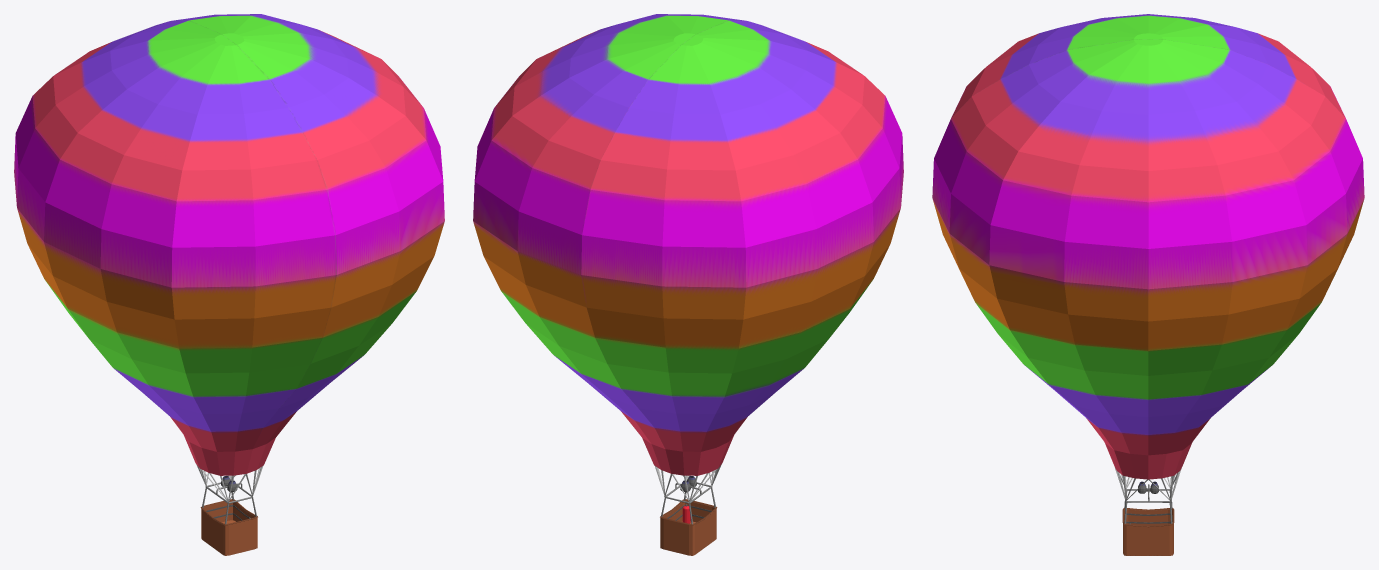
The model's file is HotAirBalloonLowPoly (1).fbx.
3 renders of one model, left to right at view 1: azimuth 30°, elevation 25°; view 2: azimuth 150°, elevation 25°; view 3: azimuth 270°, elevation 25°, orthographic.
Parts seen in each view (by area): view 1: Cube; view 2: Cube; view 3: Cube.
Boxes of the visible parts, <box> form: Cube: <box>14,14,444,555</box>; Cube: <box>473,14,903,555</box>; Cube: <box>932,14,1364,555</box>.
Size of the model in its own units: 2919 by 3786 by 2919.
